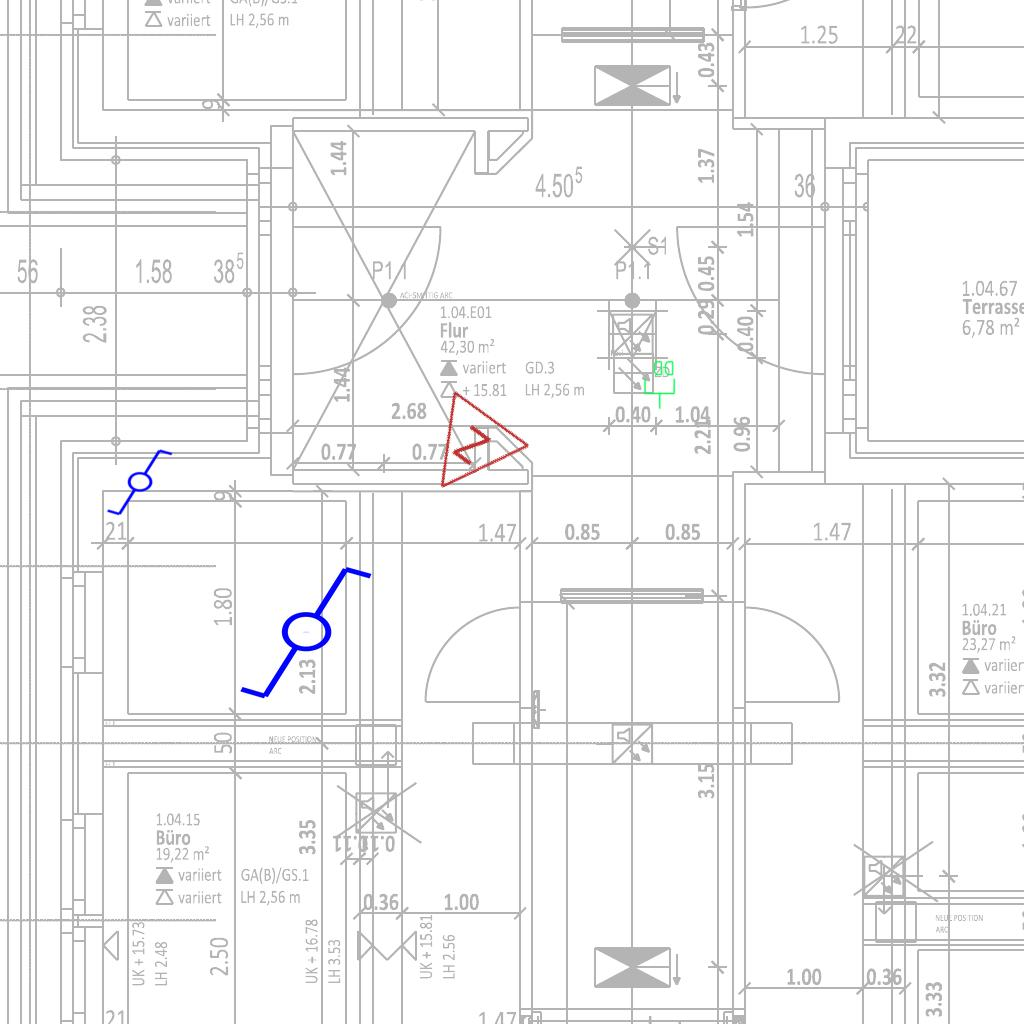Datenanschluss_zweifach: (643, 359, 677, 410)
Wechselschalter: (236, 562, 393, 706), (105, 447, 183, 519)
Zimmersignalleuchte: (398, 383, 538, 523)
